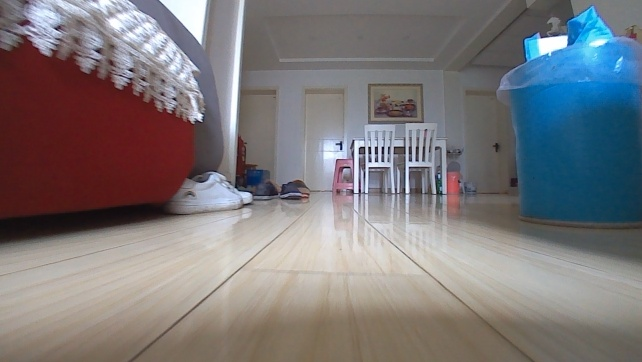dining_table: (346, 119, 450, 194)
door_anno: (302, 85, 350, 194), (465, 87, 505, 195)
shoe: (161, 168, 255, 216), (277, 177, 311, 201)
sofa1: (0, 0, 225, 222)
